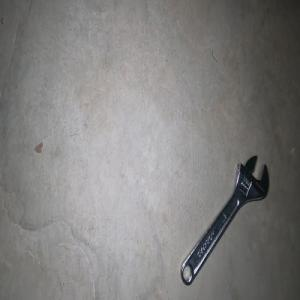Wrench: (180, 155, 268, 285)
